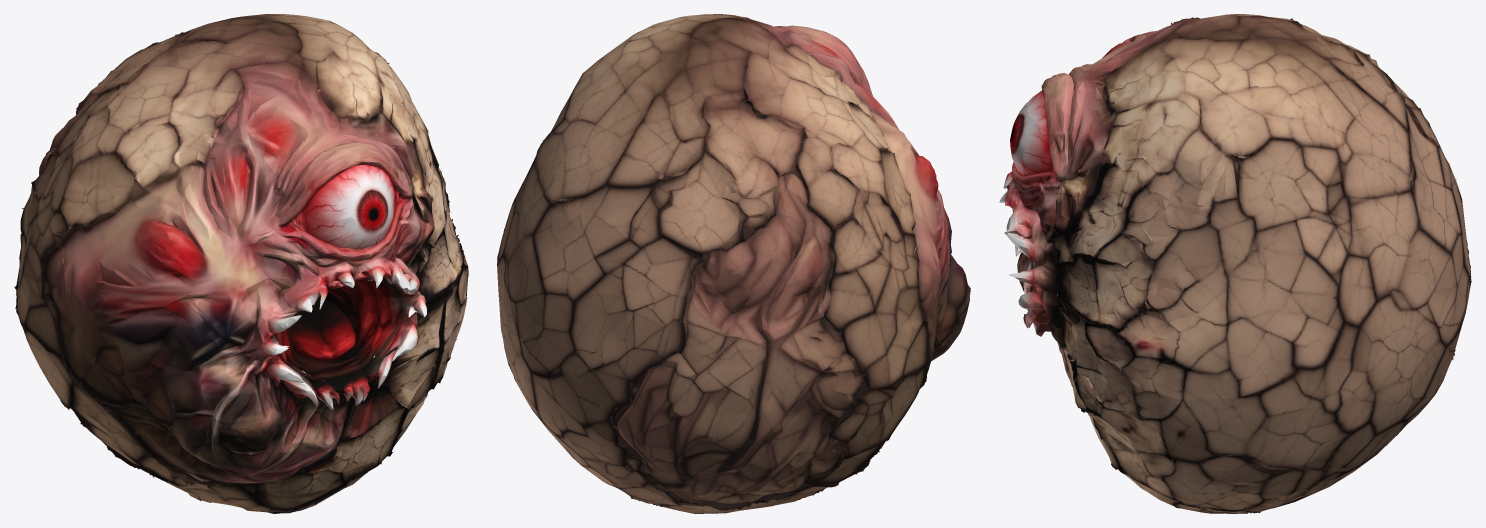
The model's file is Monster.glb.
The picture shows the model from 3 angles, left to right: view 1: azimuth 30°, elevation 25°; view 2: azimuth 150°, elevation 25°; view 3: azimuth 270°, elevation 25°; orthographic projection.
Parts seen in each view (by area): view 1: mesh_node; view 2: mesh_node; view 3: mesh_node.
Part boxes in pixels (x1,y1,x2,y2): mesh_node: (14, 14, 468, 513); mesh_node: (497, 14, 970, 513); mesh_node: (999, 14, 1471, 513).
Size of the model in its own units: 1.78 by 2 by 1.83.
1 material, 1 textured.
